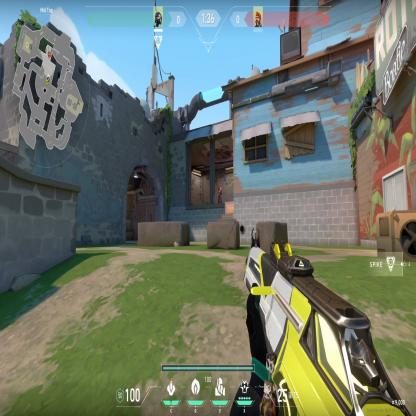enemy: (217, 182, 223, 204)
